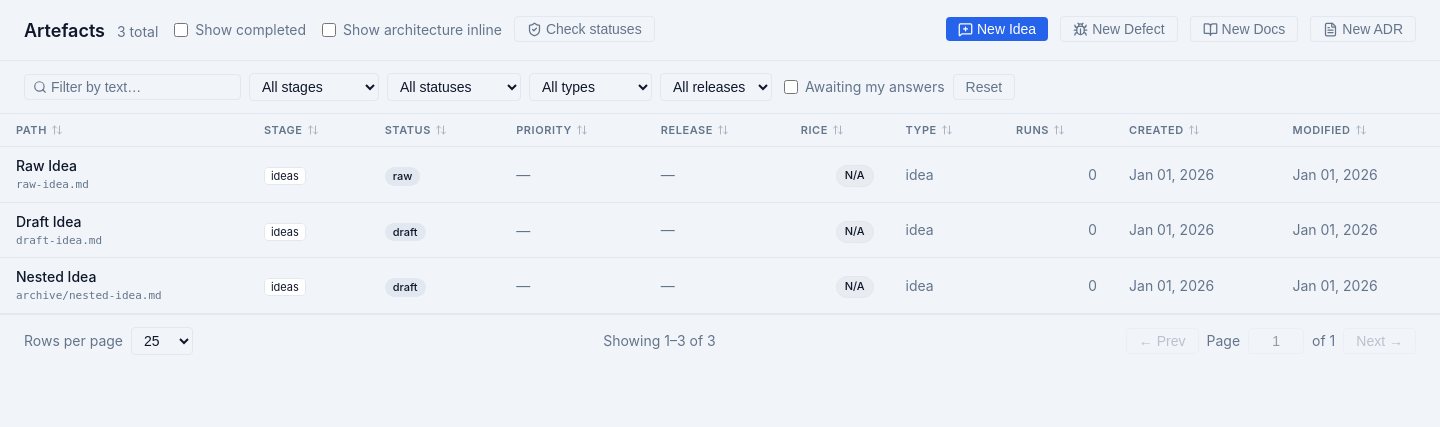
Test: ArtifactListView — raw artefact visibility › shows done rows after toggling showCompleted on
Click the checkbox labelled "Show completed" at (181, 30), box [174, 22, 188, 36]
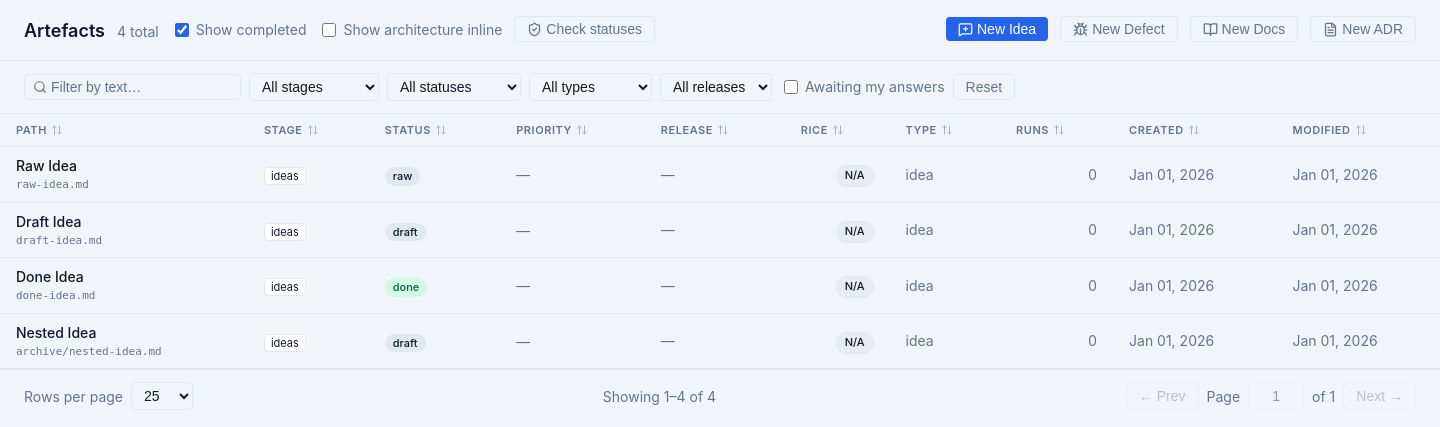
Expected: the text "Raw Idea" is shown, [16, 155, 77, 176]
Expected: the text "Done Idea" is shown, [16, 266, 84, 287]
